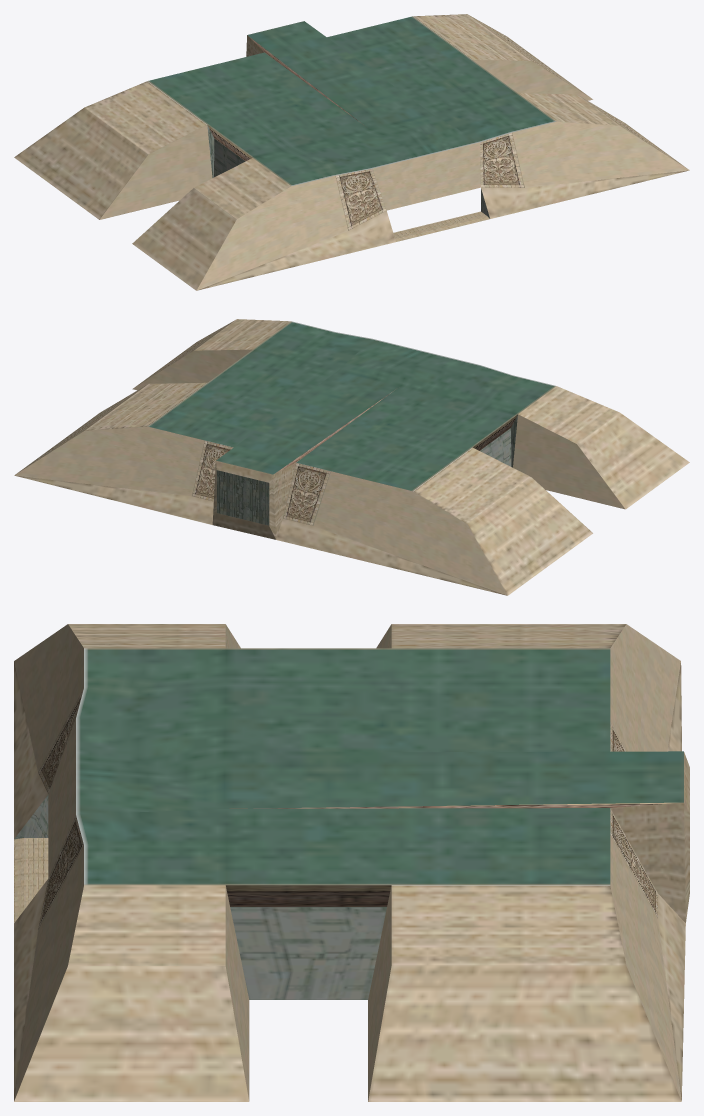
The model's file is mun_nboo_cloning_s01_r0_mesh_l3.fbx.
3 views of the same model, one above another, from view 1: azimuth 30°, elevation 25°; view 2: azimuth 150°, elevation 25°; view 3: azimuth 270°, elevation 25° (orthographic). The views are drawn at different scales.
Visible parts, largest first — view 1: mesh_node; view 2: mesh_node; view 3: mesh_node.
Part boxes in pixels (<box>): mesh_node: <box>14,14,689,290</box>; mesh_node: <box>14,319,689,595</box>; mesh_node: <box>14,624,689,1101</box>.
Bounding box in the file's own units: 62.92 × 7.89 × 40.77.
